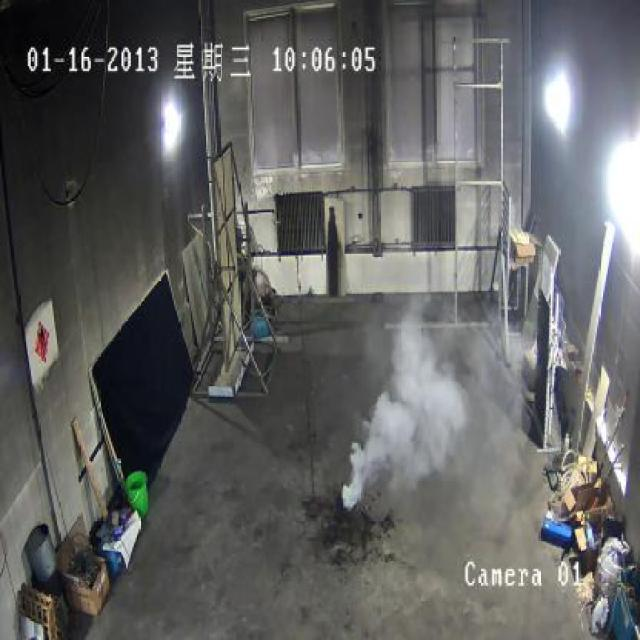fire: (339, 288, 518, 514)
